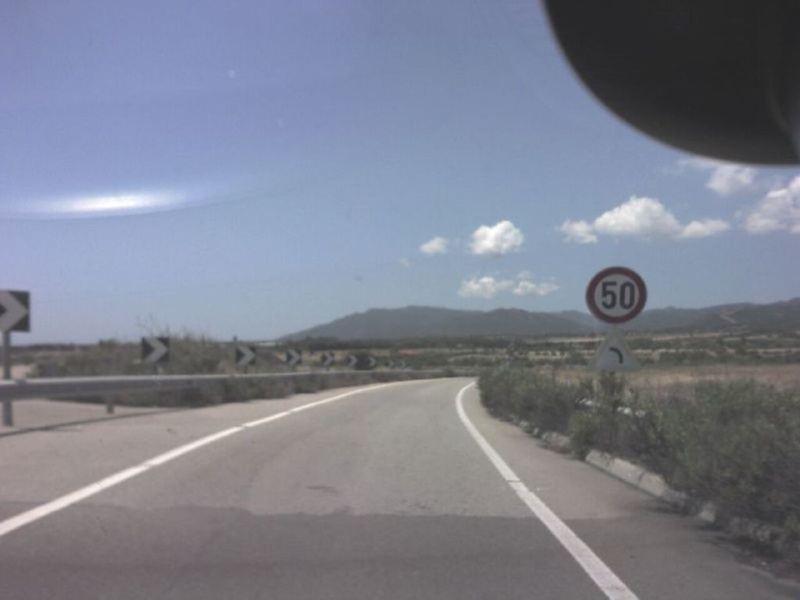speed_limit_50: (583, 266, 654, 326)
